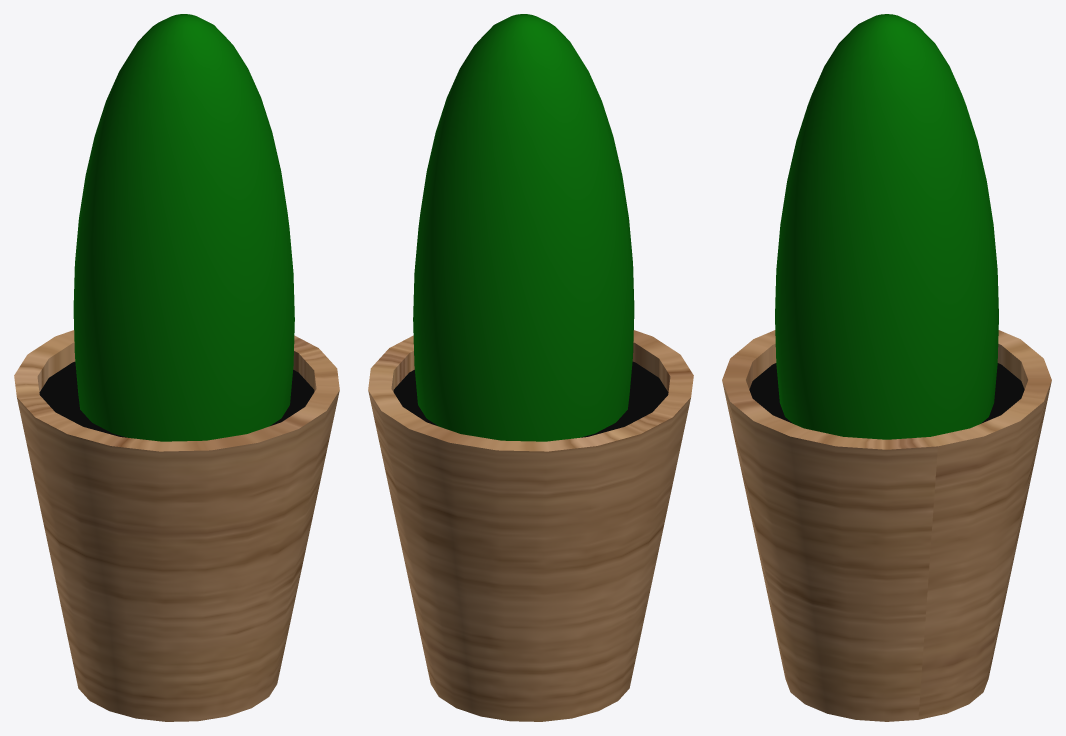
Rendered from Planta2.fbx.
3 renders of one model, left to right at view 1: azimuth 30°, elevation 25°; view 2: azimuth 150°, elevation 25°; view 3: azimuth 270°, elevation 25°, orthographic.
Parts seen in each view (by area): view 1: pCylinder5; view 2: pCylinder5; view 3: pCylinder5.
Part boxes in pixels (<box>): pCylinder5: <box>14,14,339,721</box>; pCylinder5: <box>368,14,693,721</box>; pCylinder5: <box>722,14,1051,721</box>.
Bounding box in the file's own units: 3.82 × 8.49 × 3.82.
